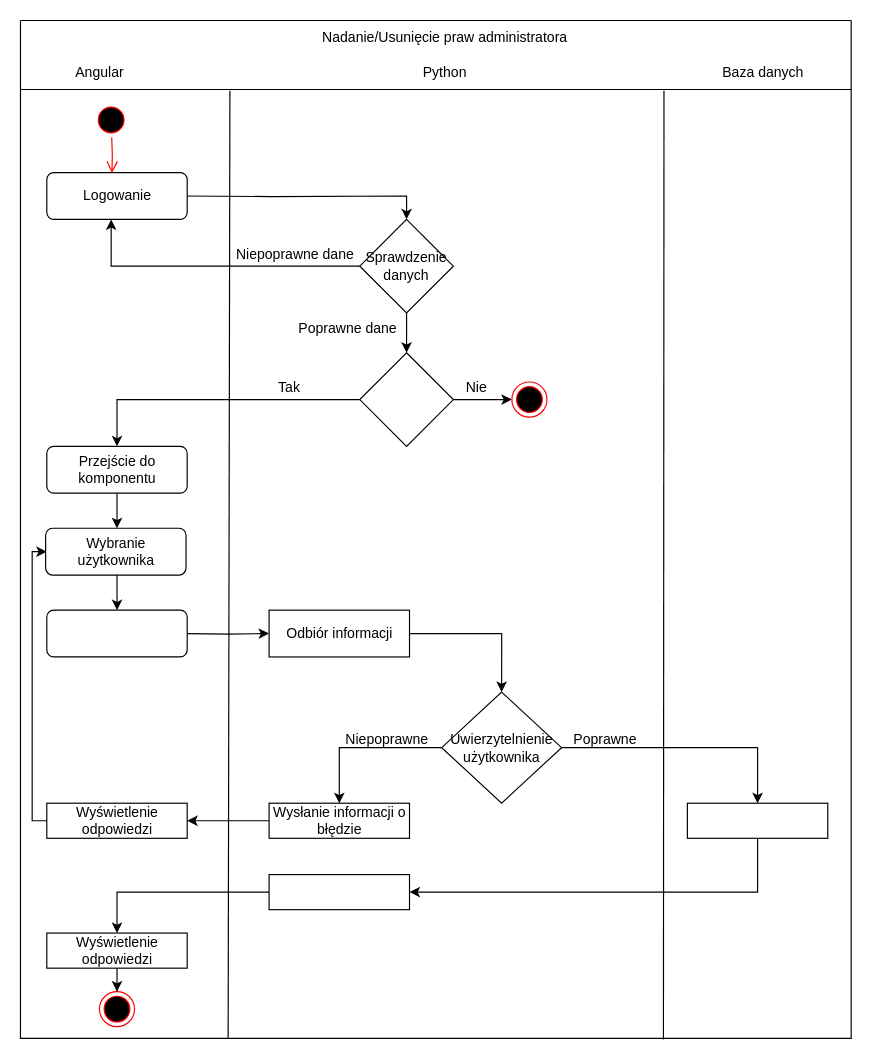
Image size: 873x1061. Some labels were removed from this diagram. The centre of each missing label's shape, as x and y in pixels:
Posiadanie uprawnień: [406,399]
Wybranie opcji "nadaj"/"odbierz": [116,633]
Wysłanie pozytywnej odpowiedzi: [339,891]
Zmiana danych: [757,820]
